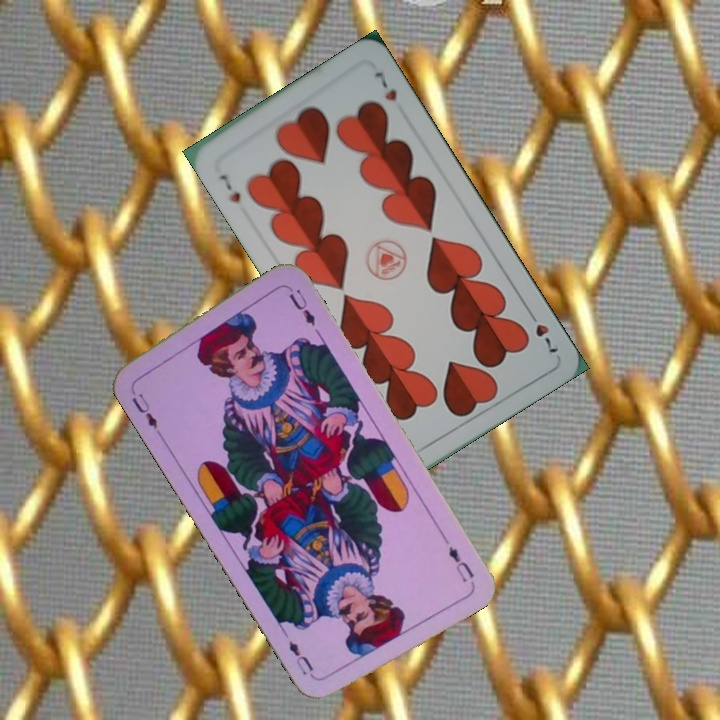EU: (126, 384, 163, 437), (444, 542, 477, 585)
H7: (523, 305, 561, 356), (215, 170, 244, 206)
